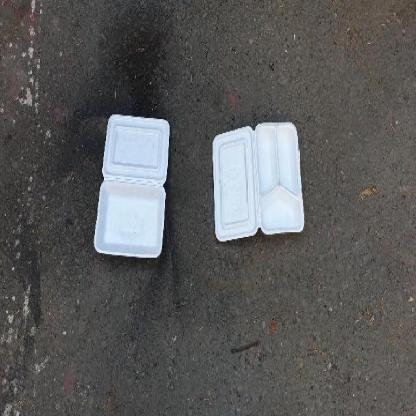Glass Cup: (93, 112, 170, 258), (212, 122, 305, 242), (213, 121, 304, 241), (94, 114, 170, 257)
